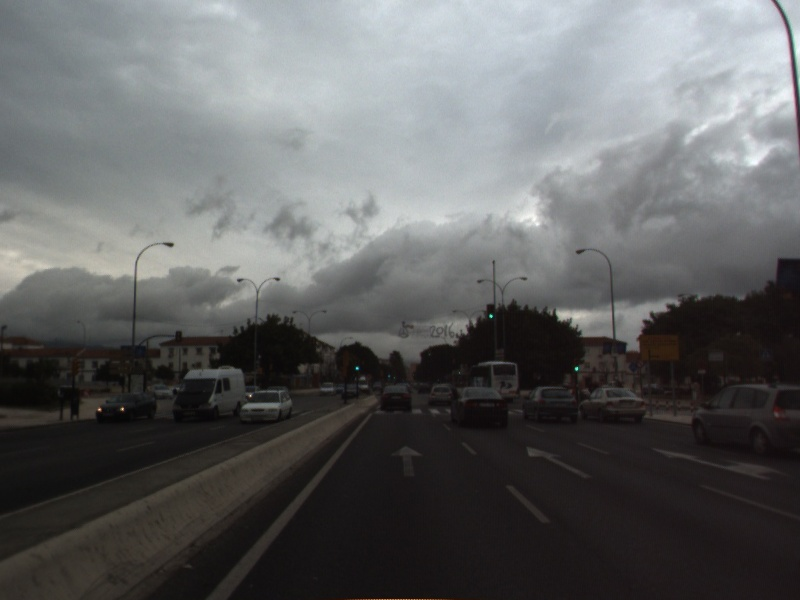STRAIGHT: (524, 444, 595, 481), (389, 443, 426, 479)
STRAIGHT_RIGHT: (648, 445, 793, 482)
